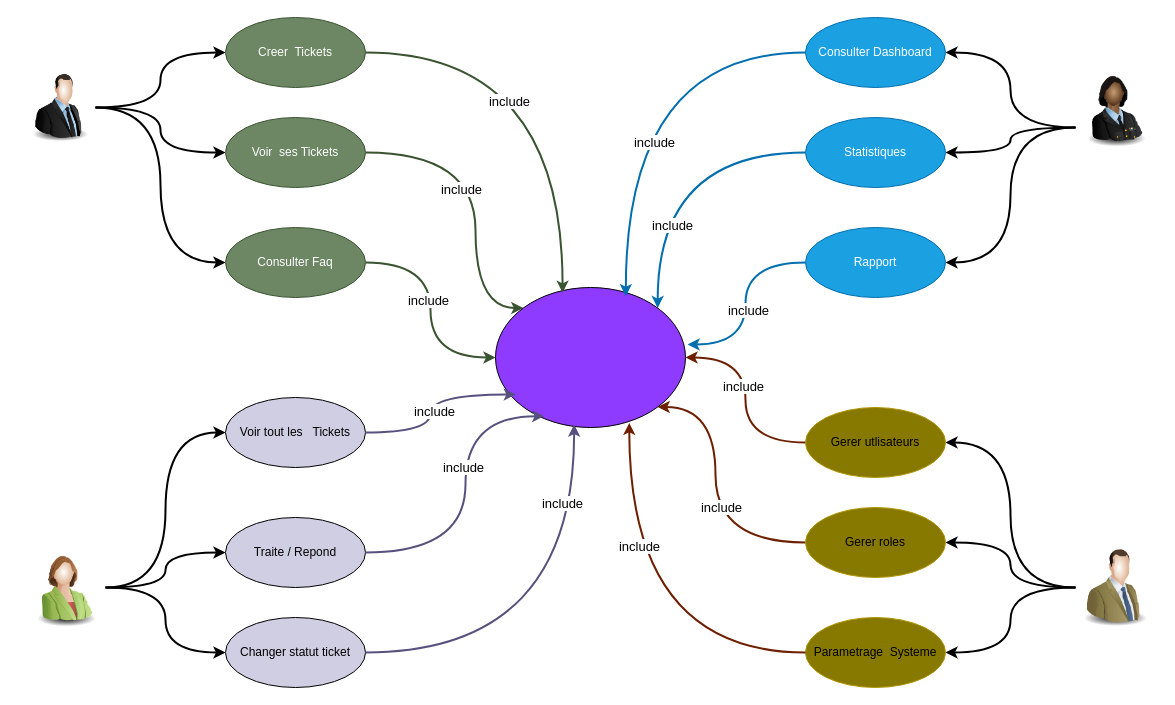
This 1175x705 diagram has some shape labels left out. Each missing label, with the box of its shape:
ADMIN: (1075, 547, 1155, 627)
SE CONNECTER: (494, 286, 686, 428)
SUPERVISEUR: (1075, 67, 1155, 147)
SUPPORT(N1/N2: (25, 547, 105, 627)
UTILISATEUR: (25, 67, 95, 147)
